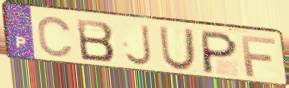B: (74, 17, 117, 64)
C: (36, 15, 75, 59)
F: (239, 34, 278, 79)
J: (124, 23, 155, 68)
P: (201, 29, 240, 76)
U: (158, 25, 198, 73)
